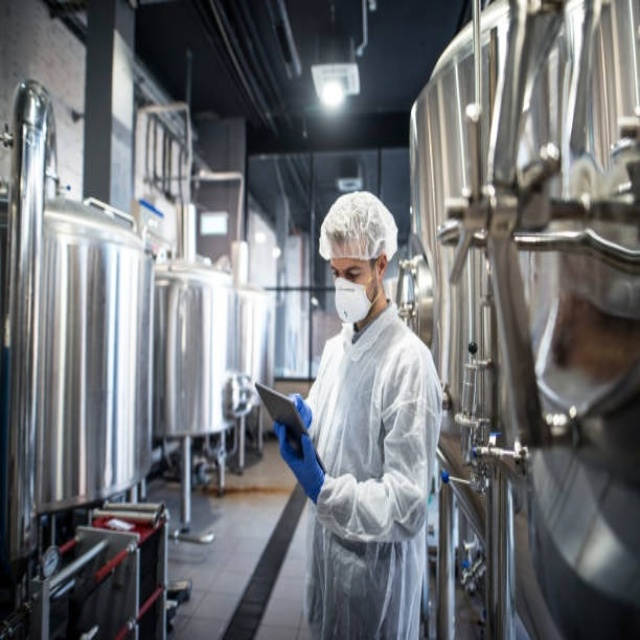Guantes: (289, 434, 325, 506), (286, 392, 313, 434)
Mascara: (532, 295, 638, 423), (334, 263, 378, 324)
Sin_gafas: (329, 257, 374, 281)
